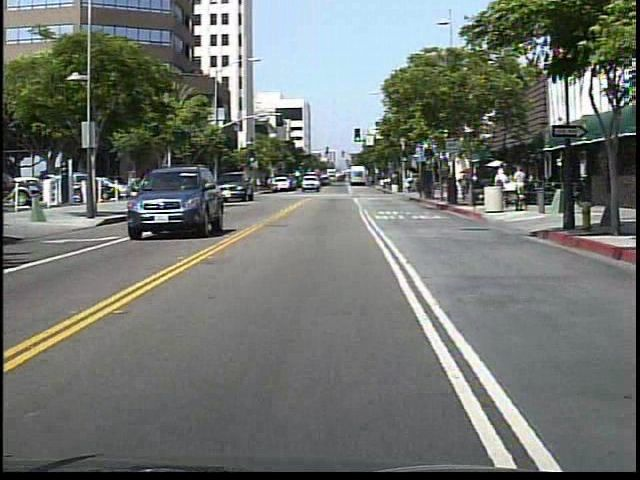person: (458, 173, 473, 203), (263, 171, 276, 198)
